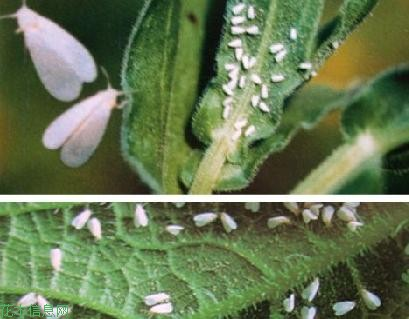whitefly: (42, 69, 138, 168), (3, 1, 97, 99), (358, 289, 382, 310), (301, 276, 320, 301), (191, 212, 217, 228), (133, 203, 148, 227), (73, 208, 90, 229), (87, 218, 102, 241), (220, 212, 237, 232), (331, 301, 355, 315), (148, 301, 172, 313), (267, 215, 290, 227), (143, 294, 168, 305), (164, 223, 185, 236), (50, 248, 62, 270), (283, 295, 294, 314)
